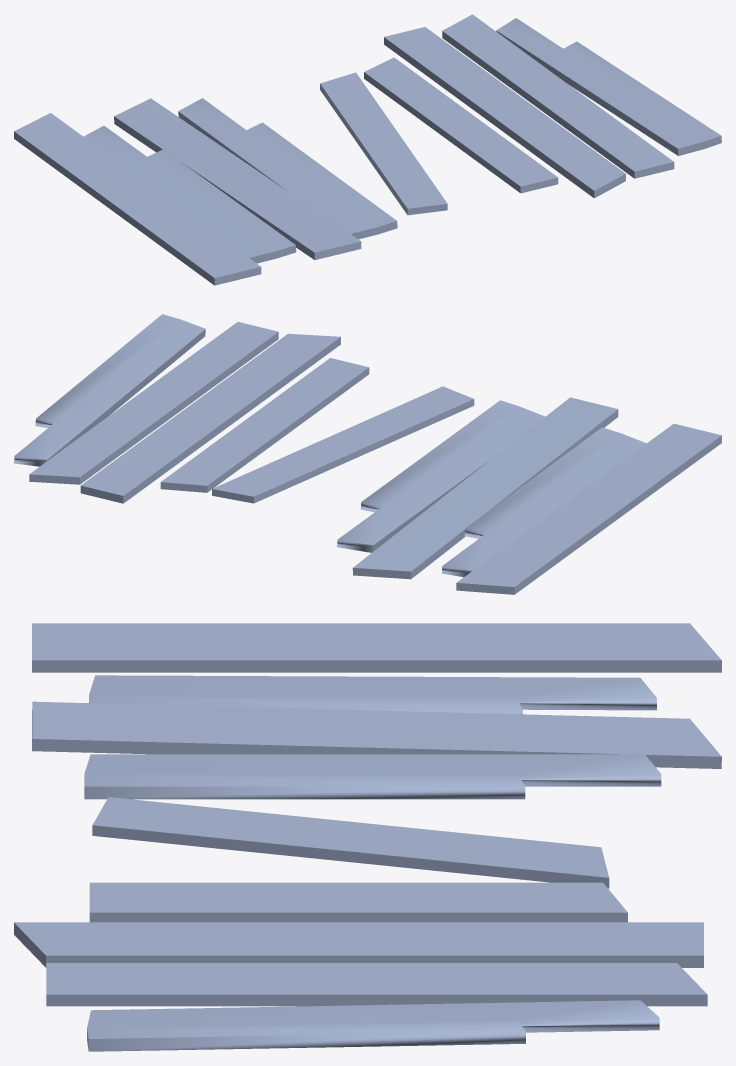
The model's file is Beam_Structure_09B_Lod0.fbx.
3 views of the same model, one above another, from view 1: azimuth 30°, elevation 25°; view 2: azimuth 150°, elevation 25°; view 3: azimuth 270°, elevation 25° (orthographic). The views are drawn at different scales.
Visible parts, largest first — view 1: Beam_Structure_09B_Lod0; view 2: Beam_Structure_09B_Lod0; view 3: Beam_Structure_09B_Lod0.
Boxes of the visible parts, left/top/right/bottom form: Beam_Structure_09B_Lod0: left=14, top=14, right=721, bottom=285; Beam_Structure_09B_Lod0: left=14, top=314, right=721, bottom=594; Beam_Structure_09B_Lod0: left=14, top=623, right=721, bottom=1051.
Size of the model in its own units: 268 by 9.48 by 191.
